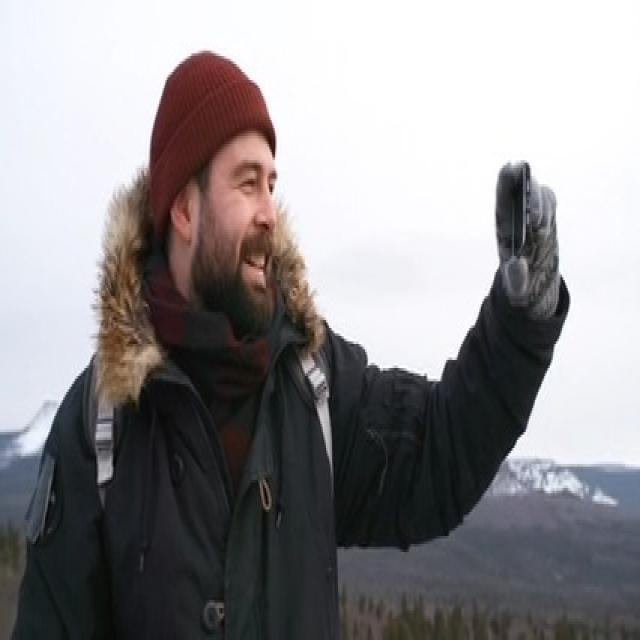Jacket_Wearer: (28, 242, 564, 633)
Person: (50, 52, 569, 640)
